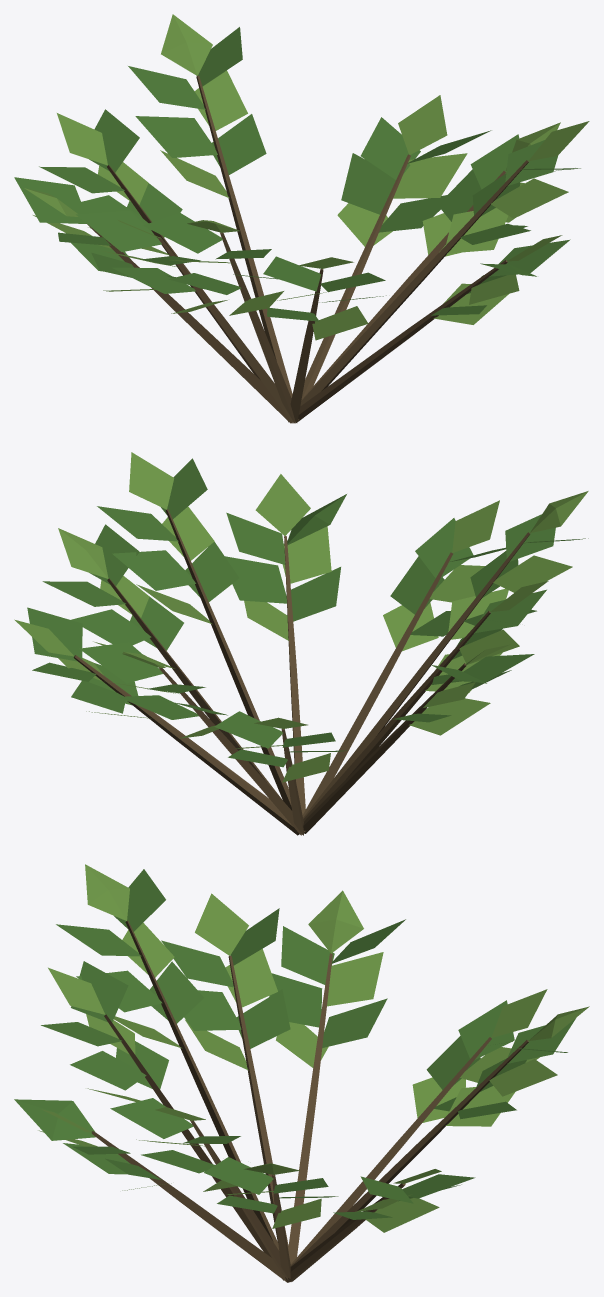
The model's file is shrub_lod1.gltf.
3 renders of one model, top to bottom at view 1: azimuth 30°, elevation 25°; view 2: azimuth 150°, elevation 25°; view 3: azimuth 270°, elevation 25°, orthographic. The views are drawn at different scales.
Visible parts, largest first — view 1: shrub_original_lod1; view 2: shrub_original_lod1; view 3: shrub_original_lod1.
Boxes of the visible parts, x1,y1,x2,y2 form: shrub_original_lod1: (14, 14, 589, 423); shrub_original_lod1: (14, 452, 588, 835); shrub_original_lod1: (14, 864, 589, 1282).
Bounding box in the file's own units: 1.05 × 0.65 × 1.05.
